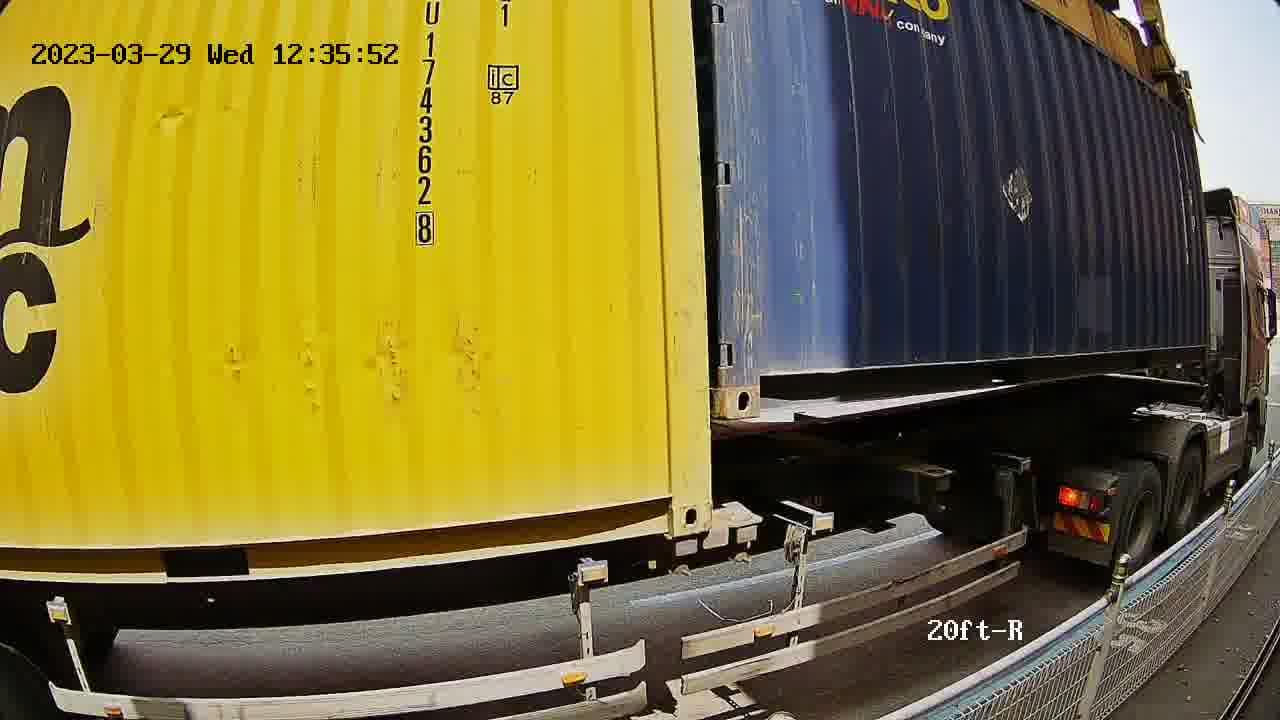Cone: (720, 507, 759, 568), (665, 534, 701, 581)
Hole_L: (720, 344, 796, 418)
Hole_R: (633, 468, 714, 536)
Tire: (1116, 464, 1162, 570), (1167, 445, 1203, 537)
